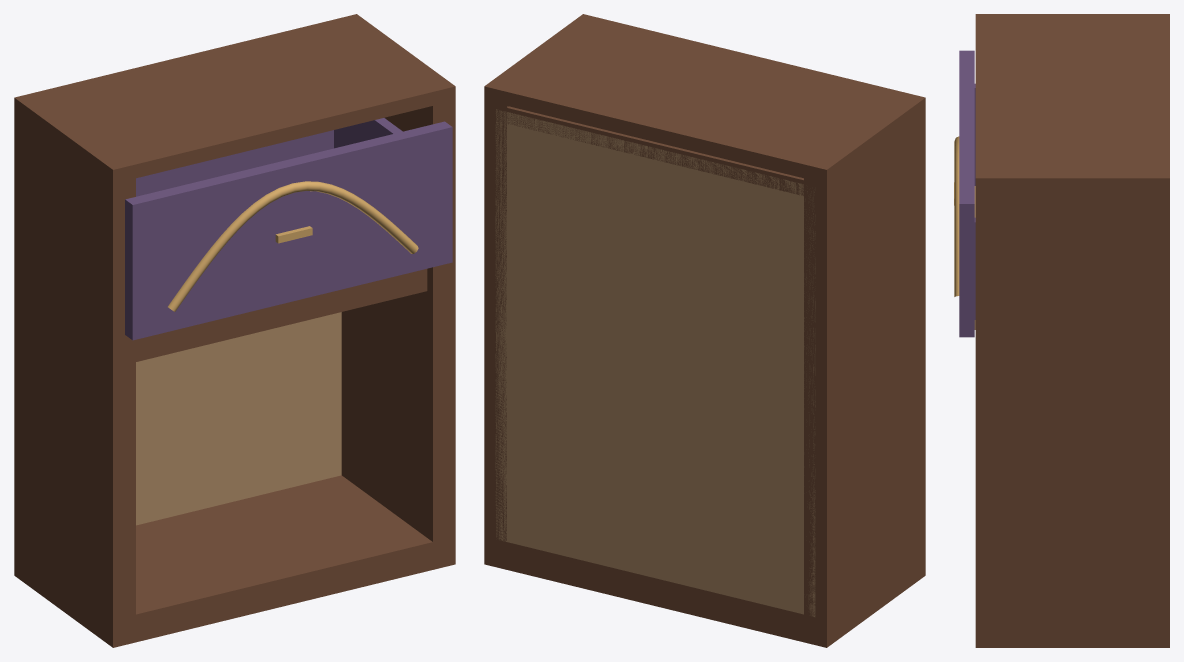
The picture shows the model from 3 angles, left to right: view 1: azimuth 30°, elevation 25°; view 2: azimuth 150°, elevation 25°; view 3: azimuth 270°, elevation 25°; orthographic projection.
Visible parts, largest first — view 1: cabinet-side-left, drawer-front, cabinet-top, cabinet-bottom, cabinet-inner-back, cabinet-side-right, cabinet-drawer-divider, drawer-back, drawer-curved-arch, drawer-right; view 2: cabinet-inner-back, cabinet-side-left, cabinet-top, cabinet-bottom, cabinet-side-right, cabinet-back-rail; view 3: cabinet-side-right, cabinet-top, drawer-front, cabinet-bottom, drawer-curved-arch.
Boxes of the visible parts, x1,y1,x2,y2 form: cabinet-side-left: [14, 110, 135, 627]; drawer-front: [125, 121, 452, 340]; cabinet-top: [14, 14, 455, 183]; cabinet-bottom: [14, 475, 455, 647]; cabinet-inner-back: [136, 312, 341, 525]; cabinet-side-right: [341, 98, 455, 549]; cabinet-drawer-divider: [136, 269, 427, 361]; drawer-back: [136, 130, 333, 196]; drawer-curved-arch: [168, 181, 418, 311]; drawer-right: [334, 118, 402, 148]; cabinet-inner-back: [495, 109, 815, 616]; cabinet-side-left: [804, 110, 925, 625]; cabinet-top: [484, 14, 925, 183]; cabinet-bottom: [484, 538, 925, 647]; cabinet-side-right: [484, 98, 508, 549]; cabinet-back-rail: [495, 105, 815, 198]; cabinet-side-right: [975, 190, 1169, 628]; cabinet-top: [975, 14, 1169, 191]; drawer-front: [959, 50, 974, 337]; cabinet-bottom: [975, 621, 1169, 647]; drawer-curved-arch: [954, 136, 959, 296].
Size of the model in its own units: 0.9 by 1.2 by 0.5.
